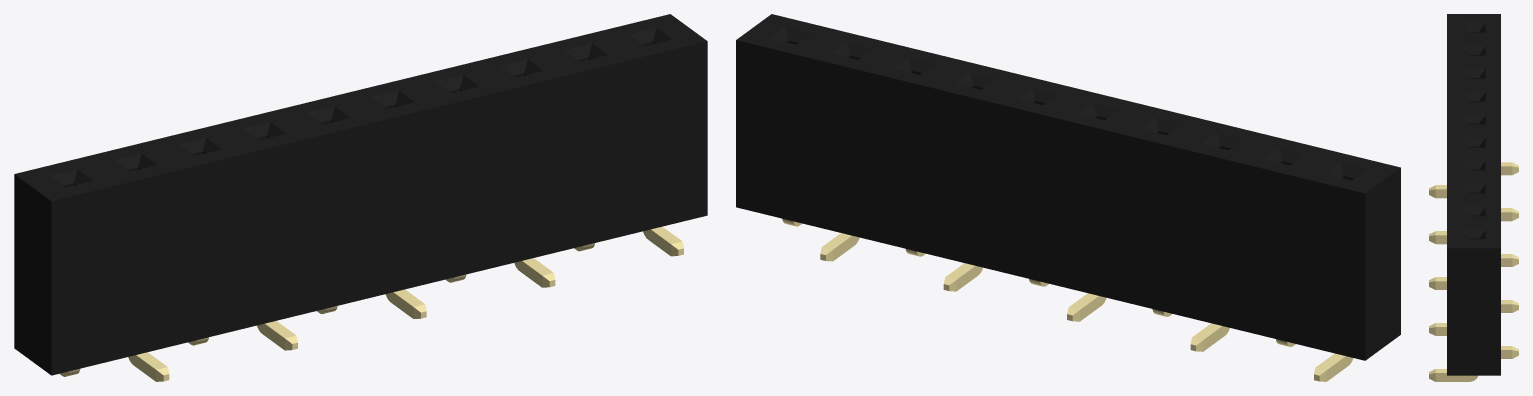
The model's file is sfe-1x10_smd_pin1rightdown.glb.
3 views of the same model, side by side, from view 1: azimuth 30°, elevation 25°; view 2: azimuth 150°, elevation 25°; view 3: azimuth 270°, elevation 25° (orthographic). The views are drawn at different scales.
Visible parts, largest first — view 1: 0_0_0_0, 0.9166666666666666_0.75_0.4166666666666667_0.9; view 2: 0_0_0_0, 0.9166666666666666_0.75_0.4166666666666667_0.9; view 3: 0_0_0_0, 0.9166666666666666_0.75_0.4166666666666667_0.9.
Boxes of the visible parts, x1,y1,x2,y2 form: 0_0_0_0: (14,14,707,375); 0.9166666666666666_0.75_0.4166666666666667_0.9: (59,226,683,381); 0_0_0_0: (736,14,1400,360); 0.9166666666666666_0.75_0.4166666666666667_0.9: (782,218,1353,381); 0_0_0_0: (1447,14,1500,375); 0.9166666666666666_0.75_0.4166666666666667_0.9: (1429,162,1518,381).
Bounding box in the file's own units: 2.59 × 0.75 × 0.4199.
